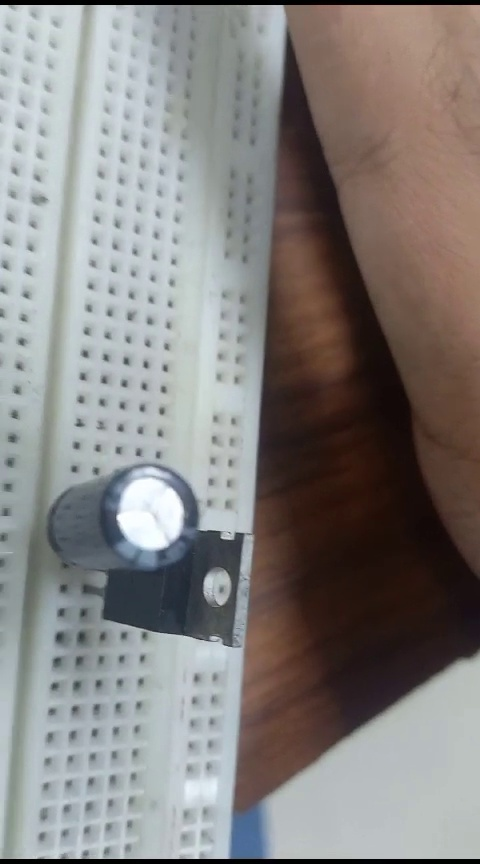capacitor: (52, 468, 203, 580)
voltage regulator: (111, 541, 254, 648)
